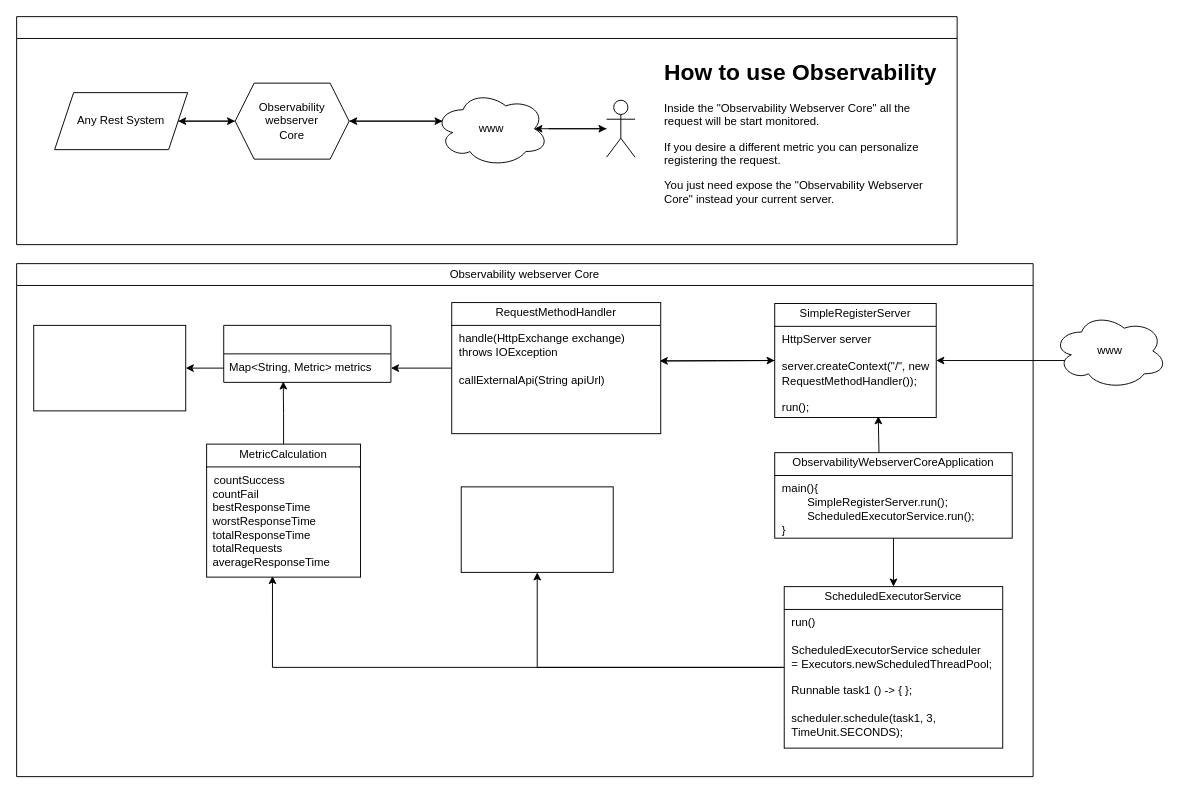
The diagram is 1184 pixels wide and 793 high, and some of its shapes have lost their labels. The box of each missing label's shape, as (x1, y1, x2, y2) in pixels:
Actor: (606, 99, 635, 157)
Metric boolean success Time responseTime String method String path: (33, 324, 186, 411)
MetricPrint printConsole(): (460, 486, 613, 572)
MetricQueue: (223, 324, 391, 382)
Plug in anySystem: (16, 16, 957, 245)
